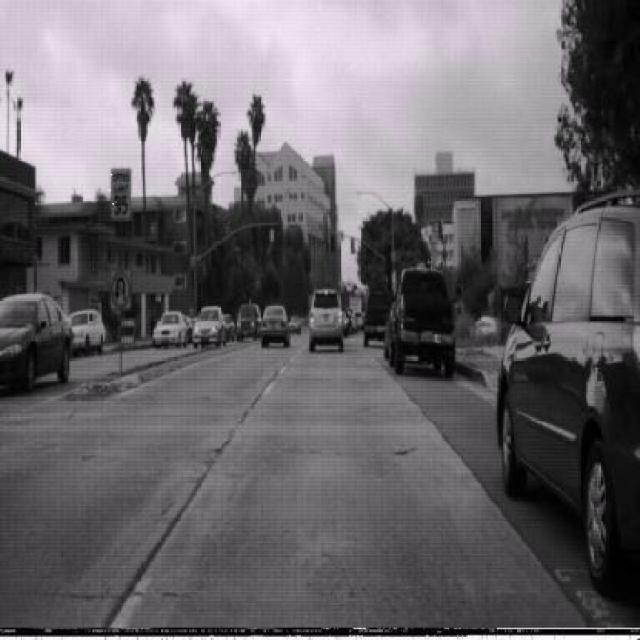speedLimit35: (109, 166, 131, 219)
